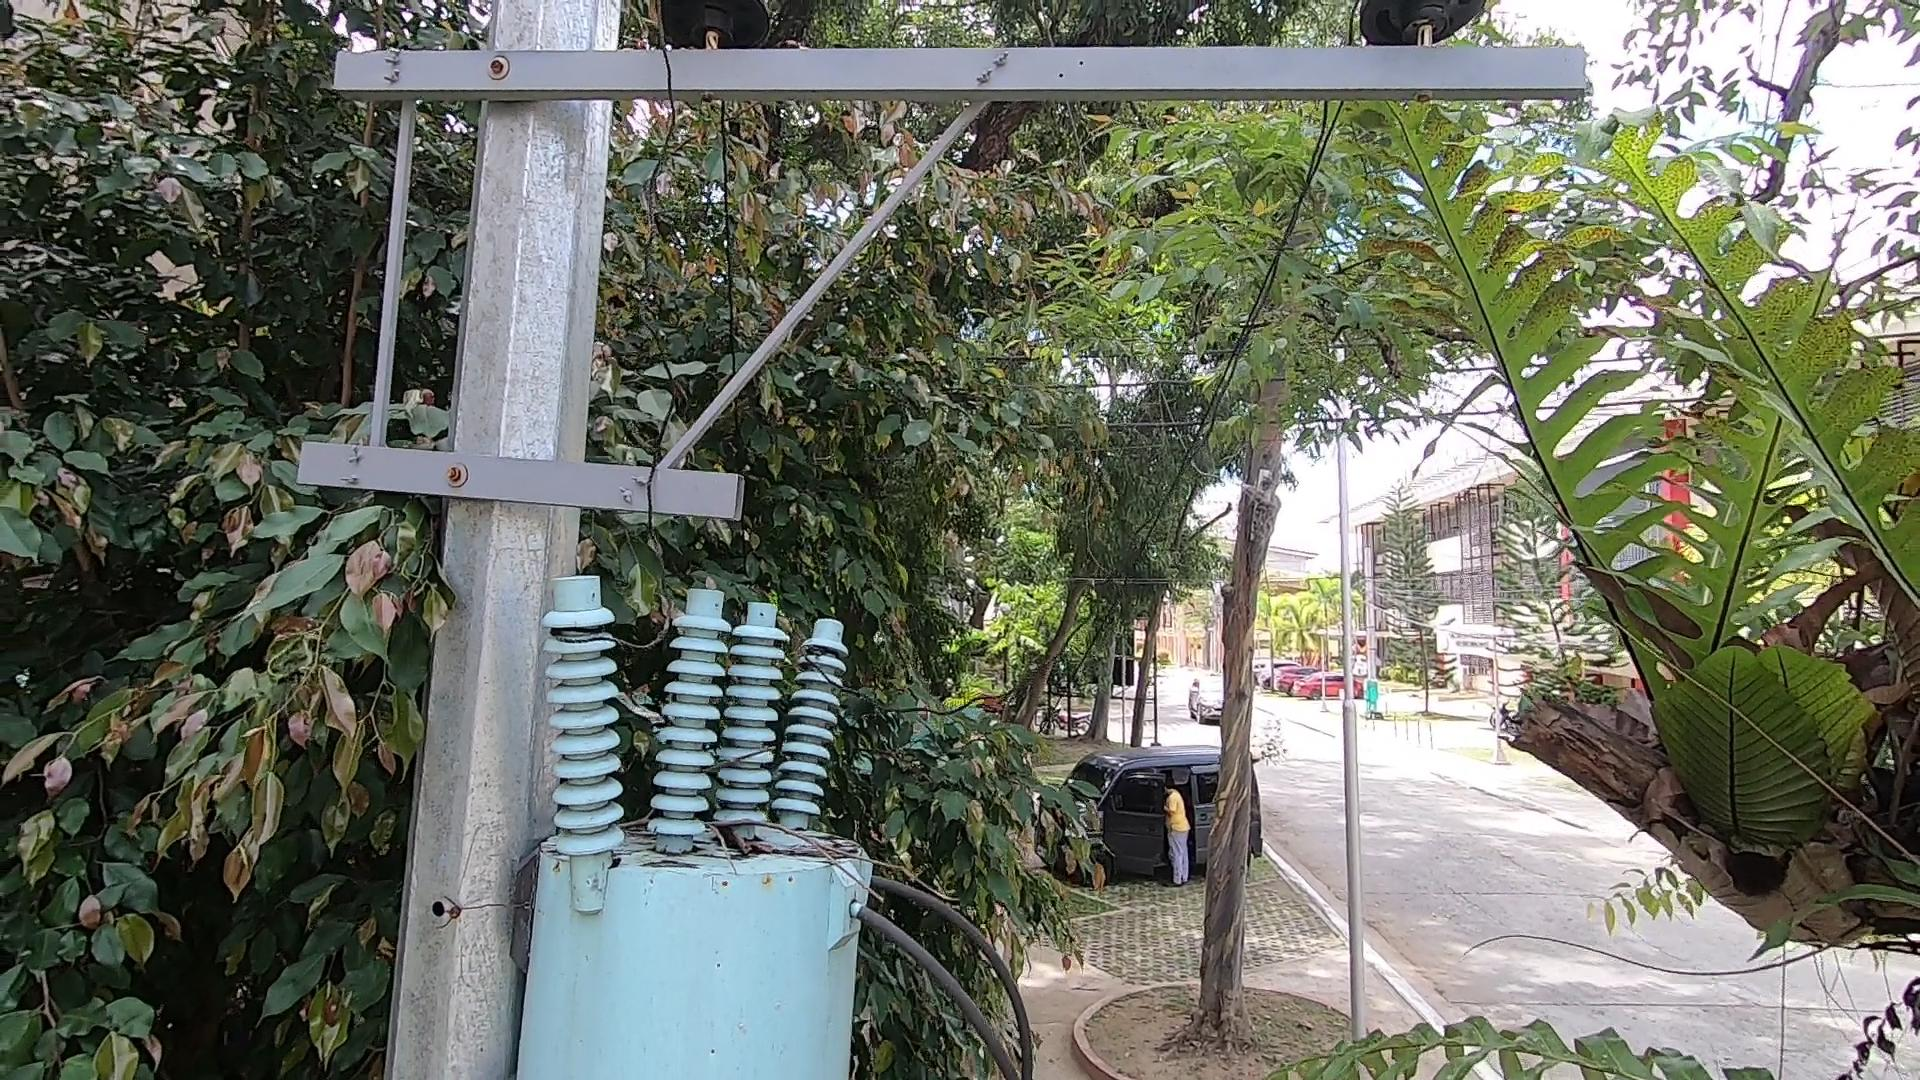leaf: (702, 819, 777, 873)
tree branch: (611, 796, 963, 918)
